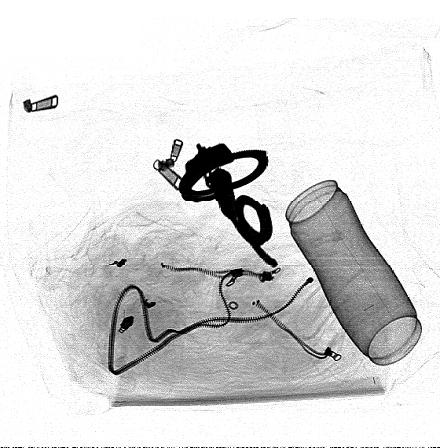HandCuffs: (176, 140, 282, 269)
